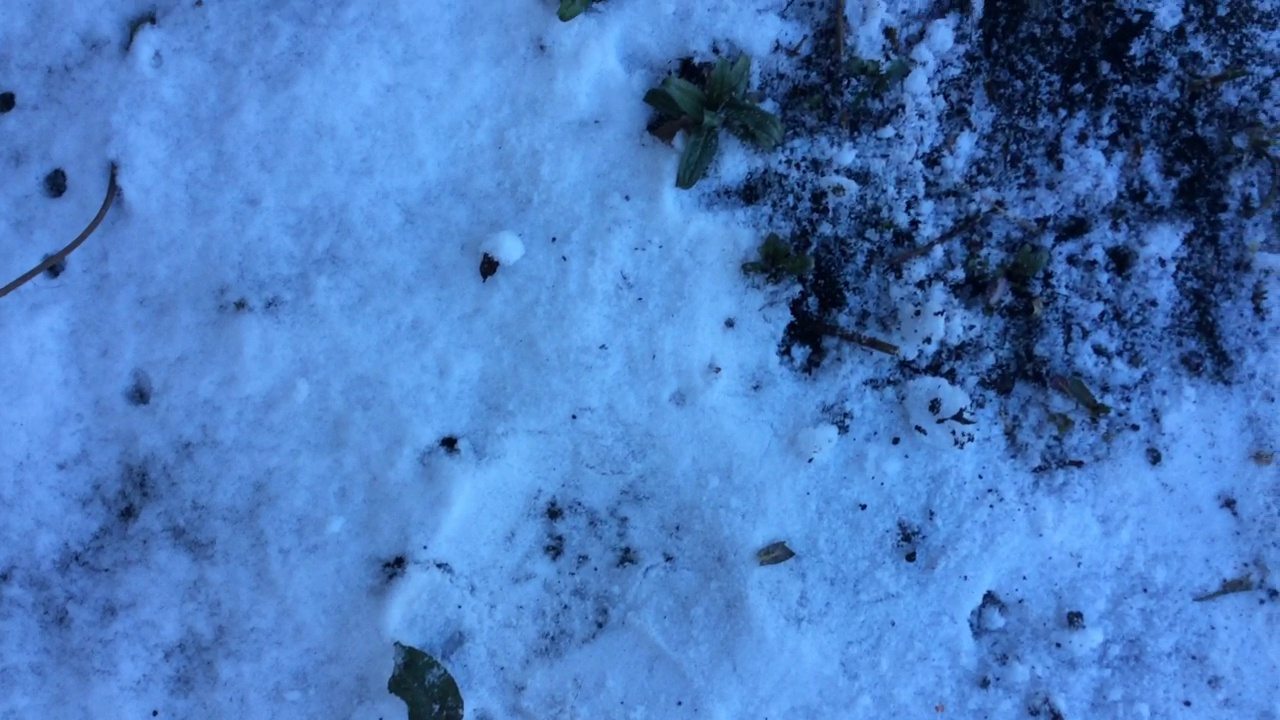rumex: (378, 631, 466, 720)
